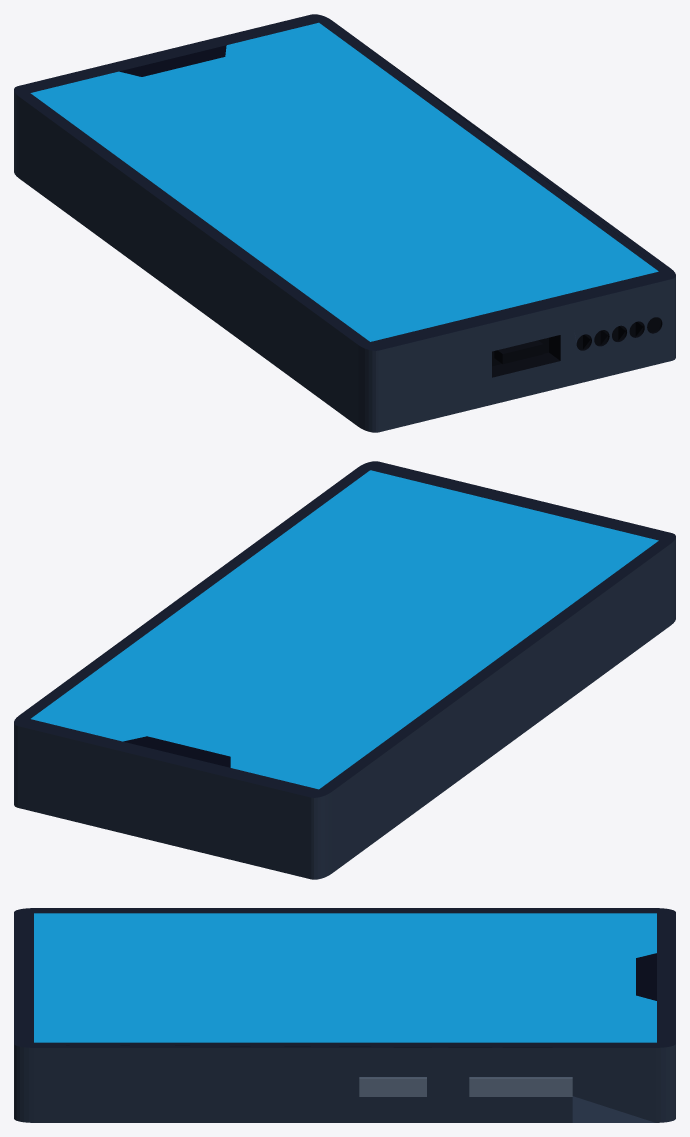
Rendered from CelularCap1.obj.
3 renders of one model, top to bottom at view 1: azimuth 30°, elevation 25°; view 2: azimuth 150°, elevation 25°; view 3: azimuth 270°, elevation 25°, orthographic. The views are drawn at different scales.
Parts seen in each view (by area): view 1: CelularCap1; view 2: CelularCap1; view 3: CelularCap1.
Part boxes in pixels (<box>): CelularCap1: <box>14,14,675,432</box>; CelularCap1: <box>14,461,675,879</box>; CelularCap1: <box>14,908,675,1122</box>.
Size of the model in its own units: 0.0201 by 0.005 by 0.04.
